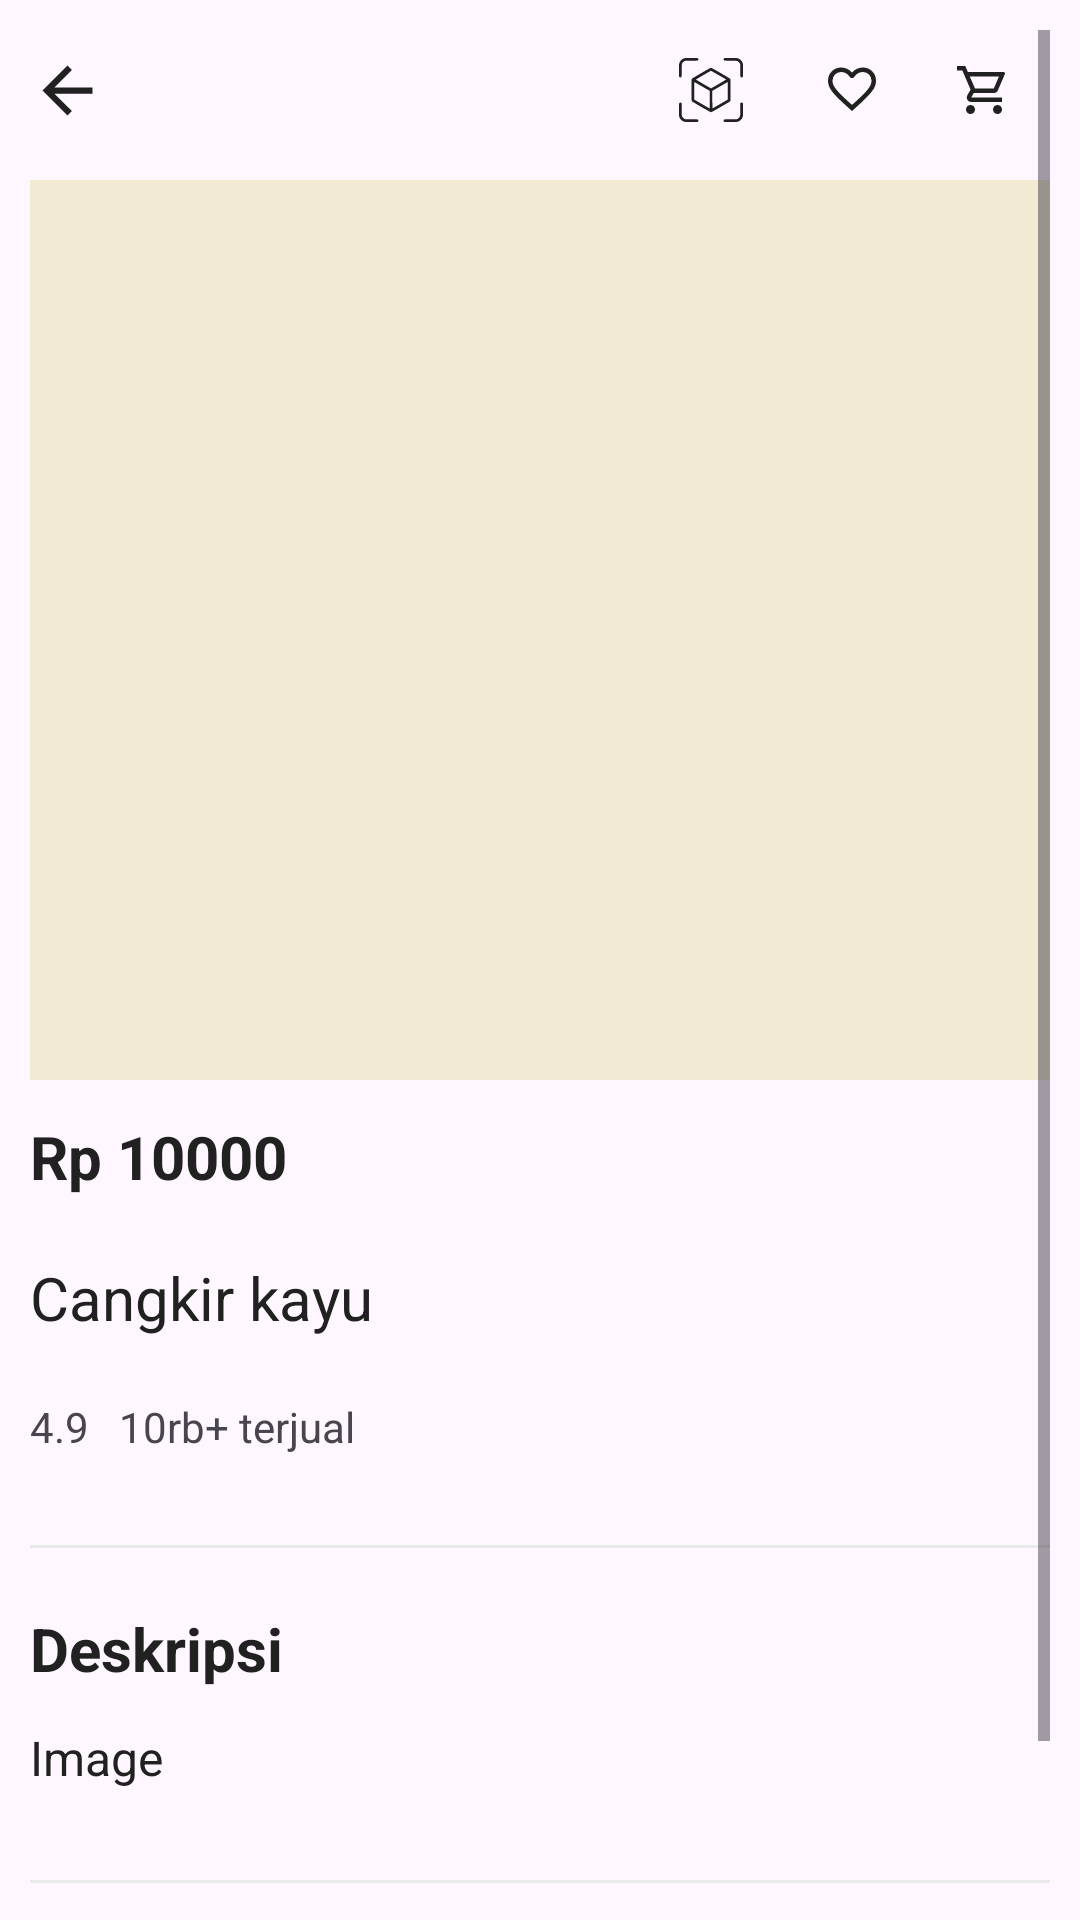

Named icons in this screenshot (1080x1920) and their bounding boxes, (x1=x1, y1=y1, x2=x2, y2=y2):
Kembali: (x1=42, y1=65, x2=93, y2=116)
wishlist: (x1=828, y1=67, x2=876, y2=111)
